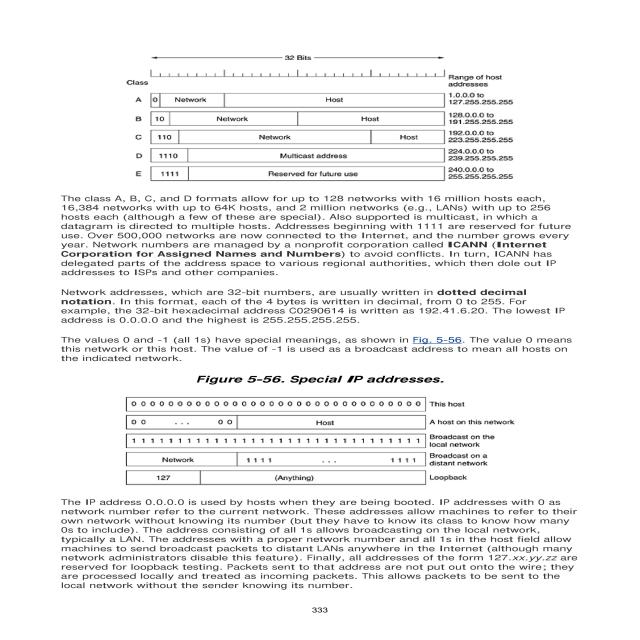diagram: (92, 366, 536, 492)
